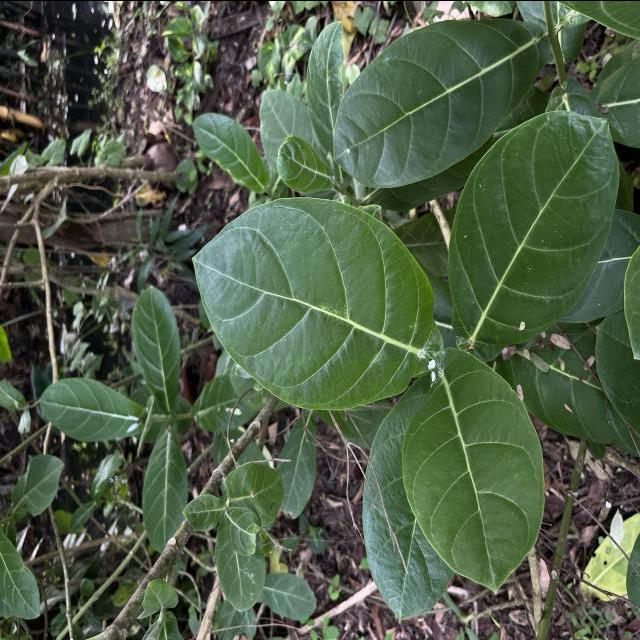Calotropis gigantea: (190, 194, 442, 412), (444, 107, 623, 366), (398, 343, 548, 598), (331, 13, 548, 188), (361, 368, 456, 623), (39, 374, 142, 442), (131, 283, 182, 415), (140, 422, 190, 554), (192, 111, 270, 193)
